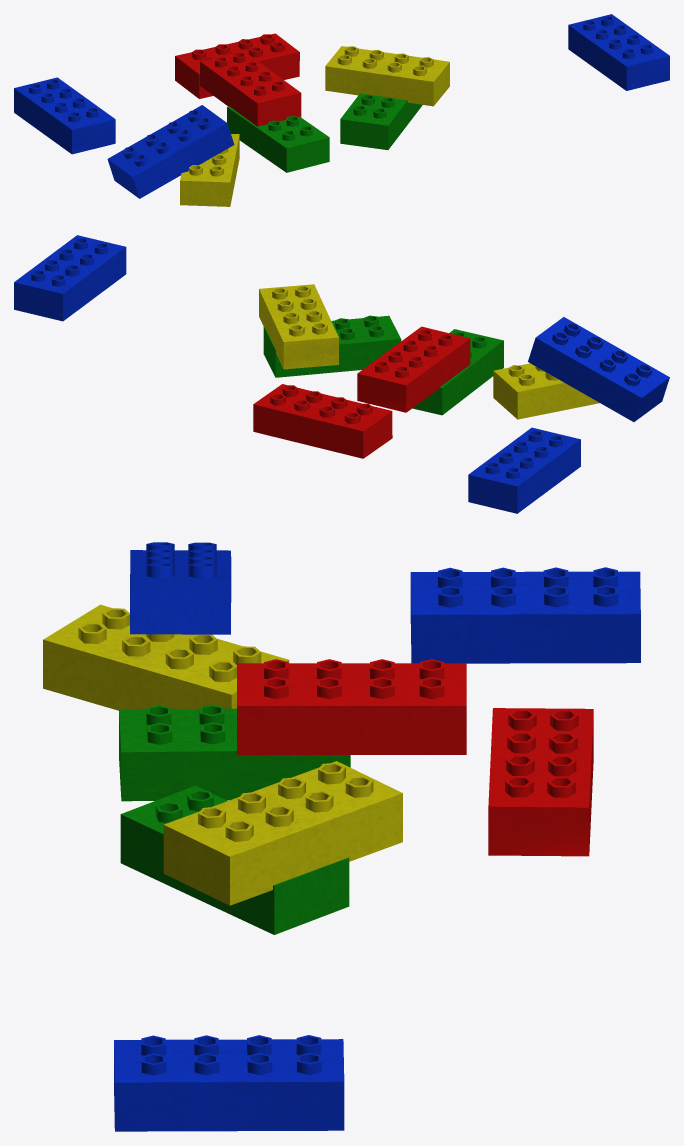
The model's file is duplopile_4.fbx.
3 views of the same model, one above another, from view 1: azimuth 30°, elevation 25°; view 2: azimuth 150°, elevation 25°; view 3: azimuth 270°, elevation 25° (orthographic). The views are drawn at different scales.
Parts seen in each view (by area): view 1: polySurface155; view 2: polySurface155; view 3: polySurface155.
Boxes of the visible parts, box(x1,y1,x2,y2) form: polySurface155: box(14, 14, 669, 206); polySurface155: box(14, 235, 669, 513); polySurface155: box(43, 542, 640, 1131).
Bounding box in the file's own units: 47.03 × 5.55 × 22.82.
